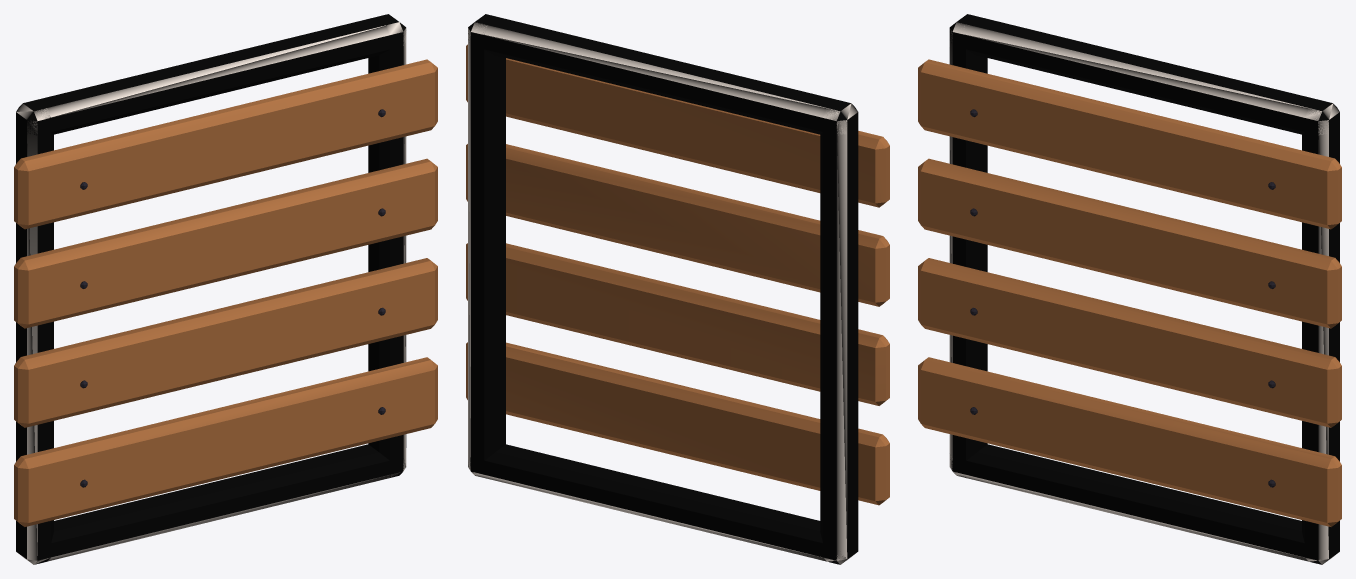
Rendered from decay.boarded-windows.glb.
The picture shows the model from 3 angles, left to right: view 1: azimuth 30°, elevation 25°; view 2: azimuth 150°, elevation 25°; view 3: azimuth 330°, elevation 25°; orthographic projection.
Visible parts, largest first — view 1: body; view 2: body; view 3: body.
Boxes of the visible parts, x1,y1,x2,y2 form: body: (14,14,437,564); body: (466,14,889,564); body: (918,14,1341,564).
Size of the model in its own units: 1.55 by 1.6 by 0.21.
